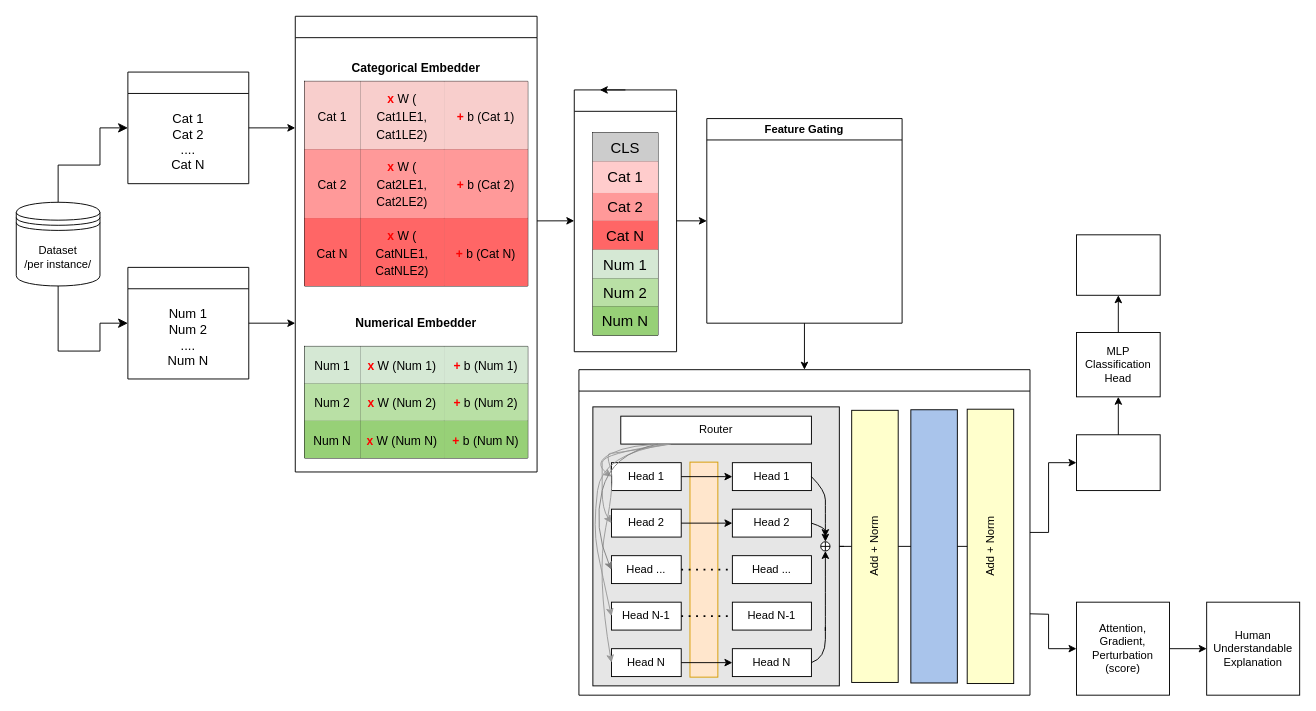
The diagram is 1316 pixels wide and 711 high, and some of its shapes have lost their labels. The box of each missing label's shape, as (x1, y1, x2, y2) in pixels:
Attention: (689, 461, 718, 677)
Categorical: (127, 71, 249, 184)
CLS Output: (1076, 434, 1160, 491)
Concatenate: (573, 89, 677, 352)
Feature Tokenizer: (294, 15, 537, 472)
Feed Forward Network: (910, 409, 957, 683)
Numerical: (127, 266, 249, 379)
Prediction Output: (1076, 234, 1160, 295)
Transformer: (578, 369, 1030, 695)
